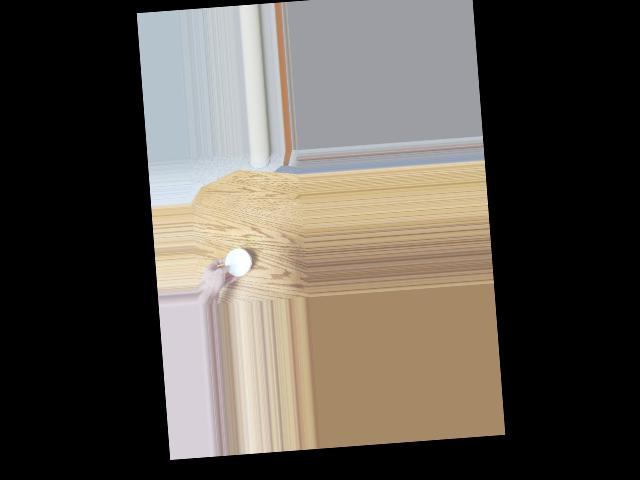cotage: (218, 245, 251, 279)
